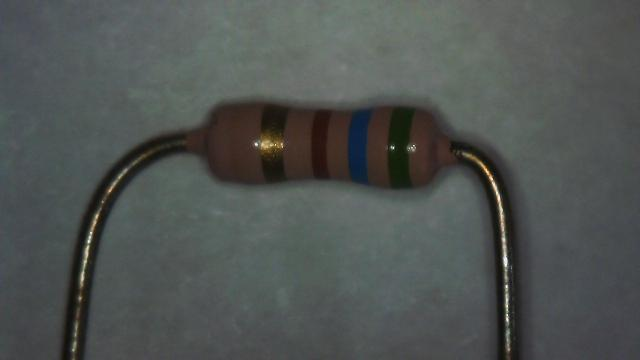blue: (347, 110, 372, 182)
brown: (311, 110, 331, 177)
gold: (260, 105, 287, 181)
green: (387, 107, 414, 188)
resistor: (180, 85, 474, 215)
